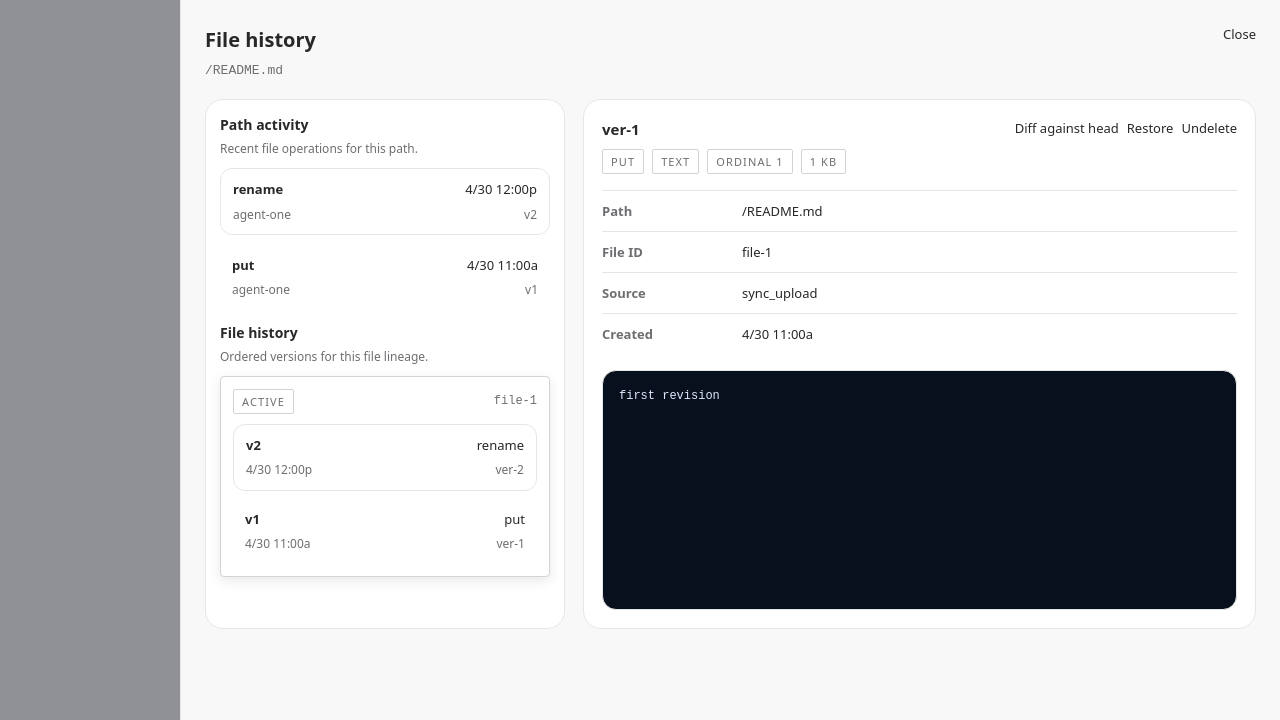
FileHistoryDrawer merged history surfaces › shows path activity next to file history and lets activity rows select linked versions
Check: the heading "Path activity" is shown, box [220,115,308,134]
Check: the heading "File history" below "Recent file operations for this path." is shown, box [220,323,298,342]
Click the button "rename 4/30 12:00p agent-one v2": (258, 189) [220,168,550,235]
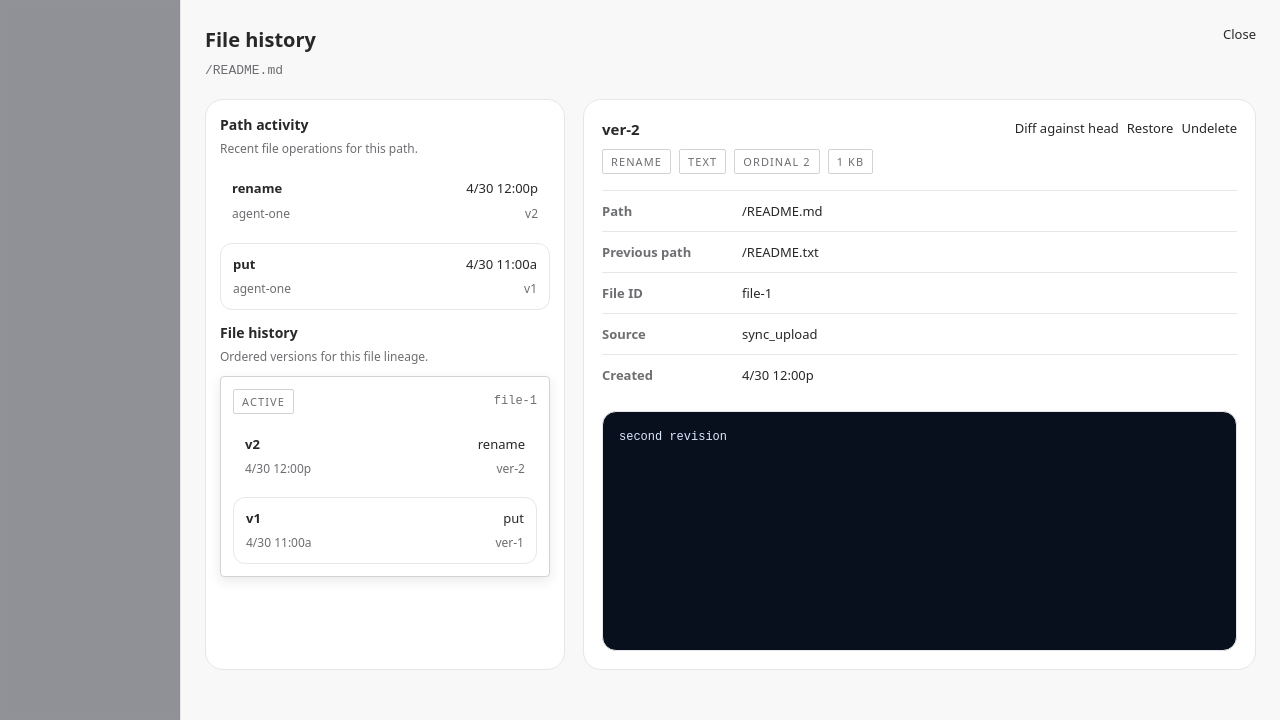
Check: the heading "ver-2" is shown, box [602,119,640,139]
Check: the text "second revision" is shown, box [602,411,1237,651]
